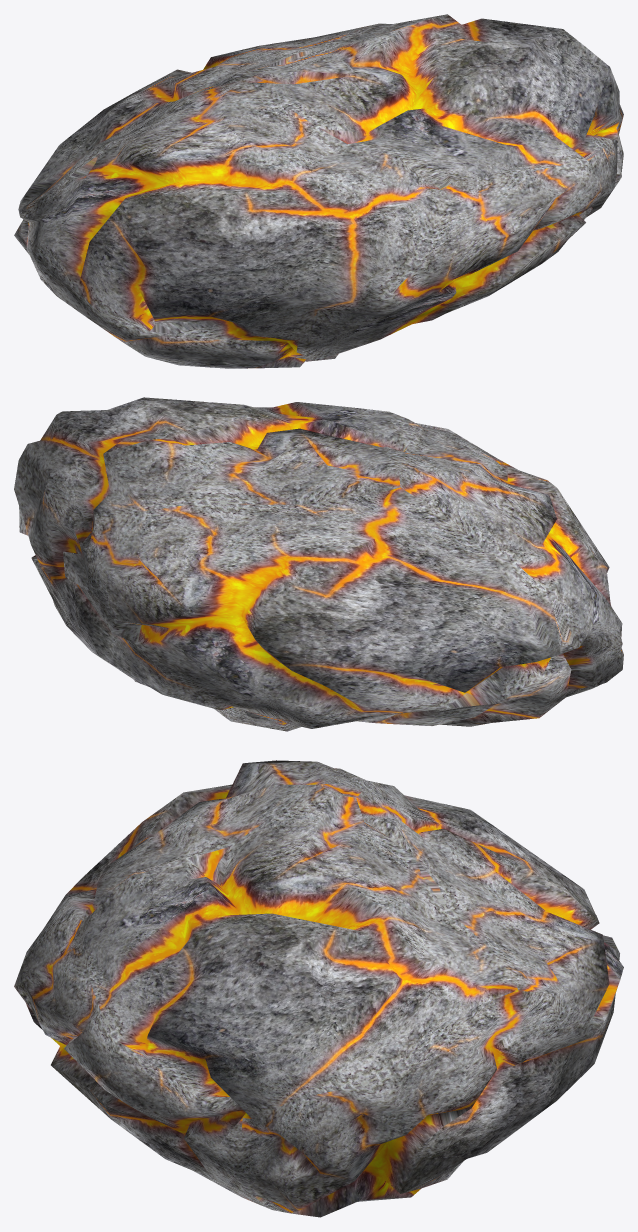
The model's file is Asteroid_08_L1.FBX.
3 renders of one model, top to bottom at view 1: azimuth 30°, elevation 25°; view 2: azimuth 150°, elevation 25°; view 3: azimuth 270°, elevation 25°, orthographic. The views are drawn at different scales.
Visible parts, largest first — view 1: Asteroid; view 2: Asteroid; view 3: Asteroid.
Boxes of the visible parts, bbox=[...] form: Asteroid: bbox=[14, 14, 623, 368]; Asteroid: bbox=[14, 397, 623, 731]; Asteroid: bbox=[14, 760, 623, 1217].
Size of the model in its own units: 4.05 by 1.73 by 3.1.
